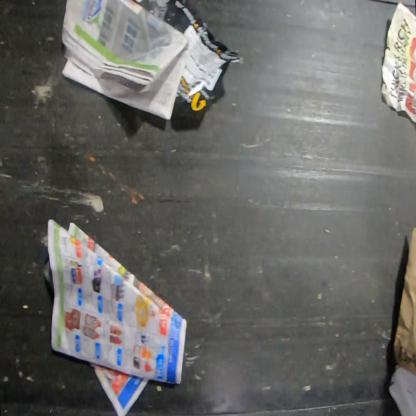cardboard: (394, 227, 415, 376)
